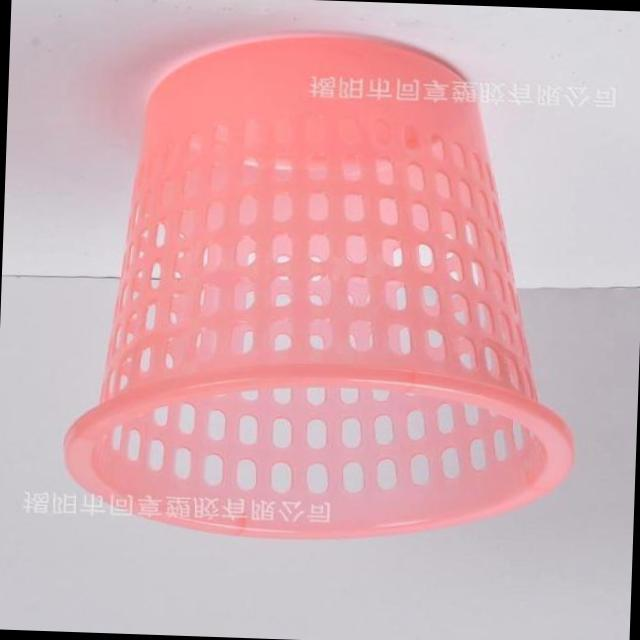dustbin: (58, 21, 592, 557)
